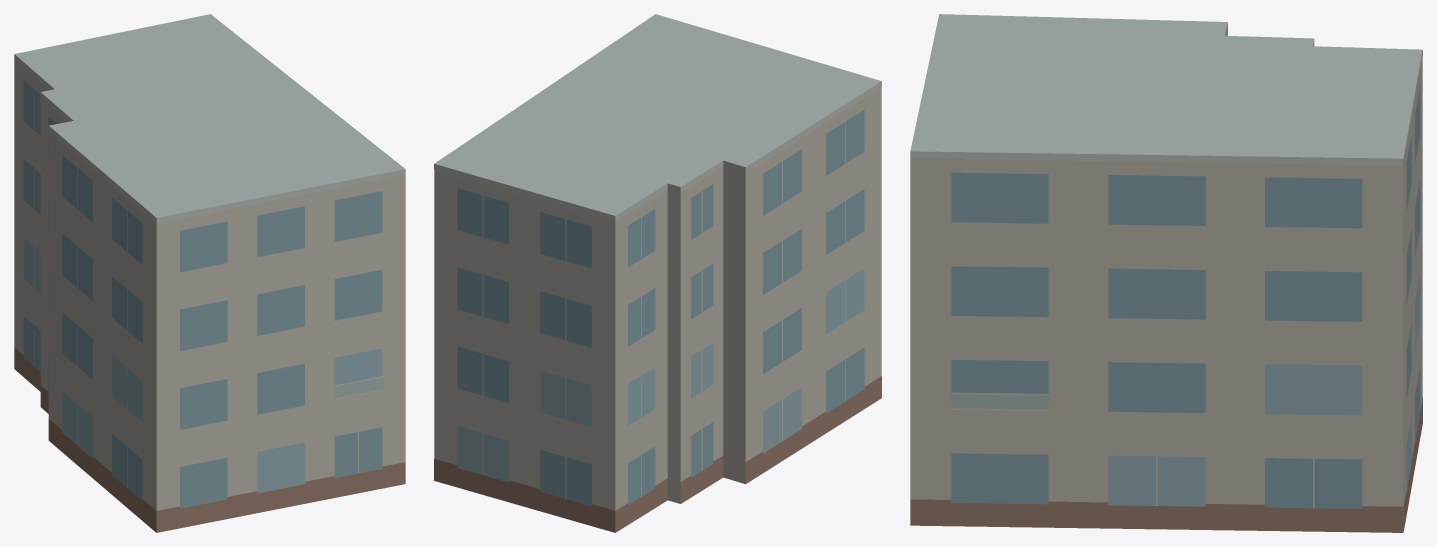
File: survey-upis-32618960.glb
3 renders of one model, left to right at view 1: azimuth 30°, elevation 25°; view 2: azimuth 150°, elevation 25°; view 3: azimuth 270°, elevation 25°, orthographic. The views are drawn at different scales.
Parts seen in each view (by area): view 1: survey-upis-32618960.tmp; view 2: survey-upis-32618960.tmp; view 3: survey-upis-32618960.tmp.
Boxes of the visible parts, left/top/right/bottom form: survey-upis-32618960.tmp: left=14, top=14, right=405, bottom=532; survey-upis-32618960.tmp: left=434, top=14, right=881, bottom=532; survey-upis-32618960.tmp: left=910, top=14, right=1422, bottom=532.
Bounding box in the file's own units: 10.75 × 12.96 × 16.09.
